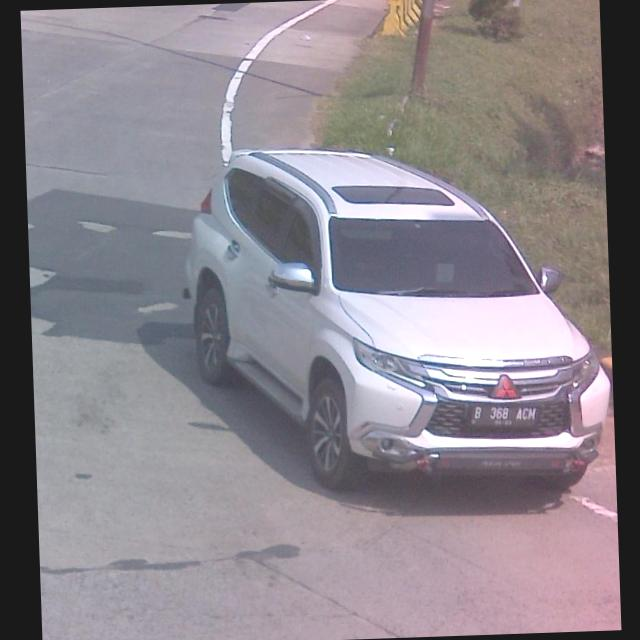plate: (472, 399, 537, 426)
